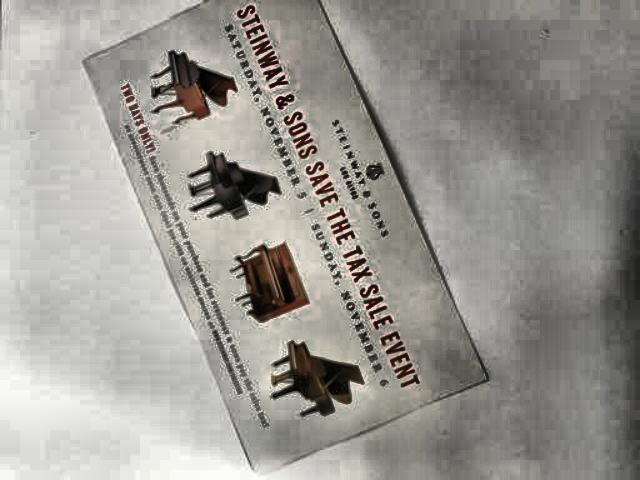Paper: (90, 0, 498, 460)
